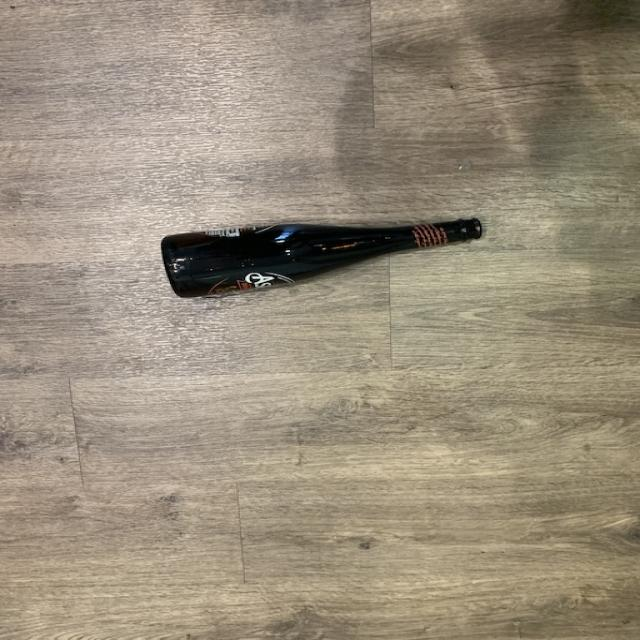litter: (158, 218, 487, 297)
